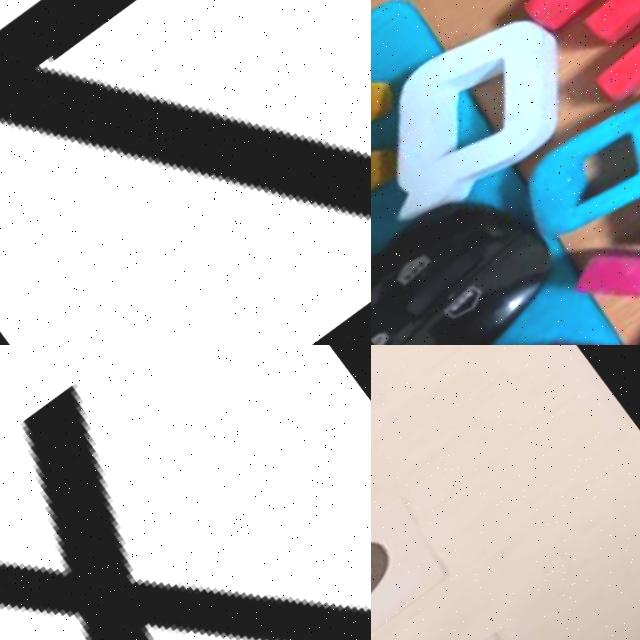0: (371, 497, 429, 640)
E: (502, 0, 640, 134)
P: (504, 47, 640, 316)
Q: (371, 0, 609, 257)
U: (477, 139, 640, 345)
X: (0, 345, 371, 640)
Z: (0, 0, 371, 345)
